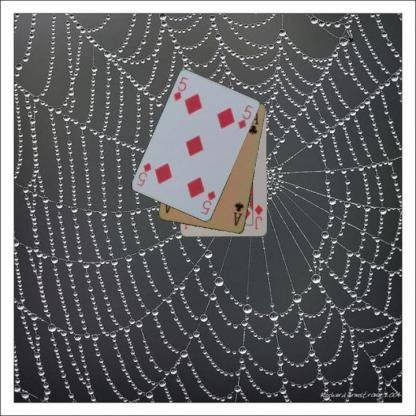5d: (171, 74, 190, 103), (198, 188, 217, 216)
Ac: (231, 199, 245, 227)
Jd: (252, 202, 265, 231)
